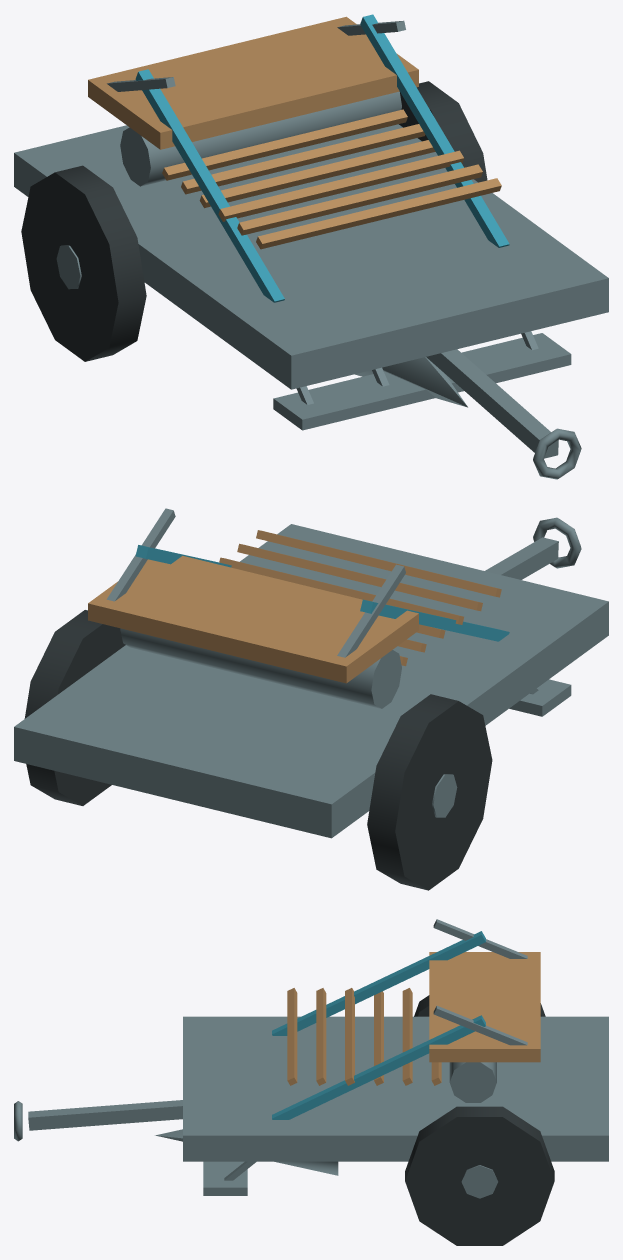
The model's file is potato-harvester.source.glb.
3 views of the same model, one above another, from view 1: azimuth 30°, elevation 25°; view 2: azimuth 150°, elevation 25°; view 3: azimuth 270°, elevation 25° (orthographic). The views are drawn at different scales.
Parts seen in each view (by area): view 1: potato-harvester-main-frame-mesh, potato-harvester-sorting-deck-mesh, potato-harvester-tire-mesh (×2), potato-harvester-share-knife-mesh, potato-harvester-web-drive-roller-mesh, potato-harvester-web-rail--0.76-mesh, potato-harvester-tractor-drawbar-mesh, potato-harvester-web-rail-0.76-mesh, potato-harvester-web-slat-1-mesh, potato-harvester-web-slat-0-mesh, potato-harvester-web-slat-2-mesh, potato-harvester-web-slat-5-mesh (+6 smaller); view 2: potato-harvester-main-frame-mesh, potato-harvester-tire-mesh (×2), potato-harvester-sorting-deck-mesh, potato-harvester-web-drive-roller-mesh, potato-harvester-web-slat-0-mesh, potato-harvester-web-slat-1-mesh, potato-harvester-web-slat-2-mesh, potato-harvester-tractor-drawbar-mesh, potato-harvester-web-rail--0.76-mesh, potato-harvester-sorter-rail--0.78-mesh, potato-harvester-share-knife-mesh, potato-harvester-sorter-rail-0.78-mesh (+3 smaller); view 3: potato-harvester-main-frame-mesh, potato-harvester-tire-mesh, potato-harvester-sorting-deck-mesh, potato-harvester-tractor-drawbar-mesh, potato-harvester-web-rail-0.76-mesh, potato-harvester-web-rail--0.76-mesh, potato-harvester-web-drive-roller-mesh, potato-harvester-share-knife-mesh, potato-harvester-web-slat-1-mesh, potato-harvester-web-slat-0-mesh, potato-harvester-web-slat-2-mesh, potato-harvester-sorter-rail-0.78-mesh (+5 smaller).
Part boxes in pixels (bbox=[...]): potato-harvester-main-frame-mesh: bbox=[14, 124, 608, 389]; potato-harvester-sorting-deck-mesh: bbox=[88, 16, 418, 149]; potato-harvester-tire-mesh (×2): bbox=[21, 81, 487, 361]; potato-harvester-share-knife-mesh: bbox=[273, 333, 571, 430]; potato-harvester-web-drive-roller-mesh: bbox=[120, 91, 401, 186]; potato-harvester-web-rail--0.76-mesh: bbox=[135, 69, 284, 302]; potato-harvester-tractor-drawbar-mesh: bbox=[426, 349, 558, 458]; potato-harvester-web-rail-0.76-mesh: bbox=[360, 14, 509, 247]; potato-harvester-web-slat-1-mesh: bbox=[237, 164, 482, 235]; potato-harvester-web-slat-0-mesh: bbox=[256, 178, 501, 249]; potato-harvester-web-slat-2-mesh: bbox=[218, 150, 464, 221]; potato-harvester-web-slat-5-mesh: bbox=[162, 109, 407, 180]; potato-harvester-main-frame-mesh: bbox=[14, 524, 608, 838]; potato-harvester-tire-mesh (×2): bbox=[24, 610, 492, 890]; potato-harvester-sorting-deck-mesh: bbox=[88, 556, 418, 683]; potato-harvester-web-drive-roller-mesh: bbox=[120, 628, 401, 708]; potato-harvester-web-slat-0-mesh: bbox=[256, 530, 501, 597]; potato-harvester-web-slat-1-mesh: bbox=[237, 543, 482, 611]; potato-harvester-web-slat-2-mesh: bbox=[219, 557, 463, 624]; potato-harvester-tractor-drawbar-mesh: bbox=[485, 537, 558, 579]; potato-harvester-web-rail--0.76-mesh: bbox=[360, 599, 509, 641]; potato-harvester-sorter-rail--0.78-mesh: bbox=[337, 564, 405, 657]; potato-harvester-share-knife-mesh: bbox=[509, 679, 571, 716]; potato-harvester-sorter-rail-0.78-mesh: bbox=[106, 508, 175, 601]; potato-harvester-main-frame-mesh: bbox=[183, 1016, 608, 1161]; potato-harvester-tire-mesh: bbox=[405, 1106, 554, 1245]; potato-harvester-sorting-deck-mesh: bbox=[429, 952, 540, 1062]; potato-harvester-tractor-drawbar-mesh: bbox=[28, 1100, 182, 1130]; potato-harvester-web-rail-0.76-mesh: bbox=[272, 1015, 485, 1119]; potato-harvester-web-rail--0.76-mesh: bbox=[272, 931, 485, 1035]; potato-harvester-web-drive-roller-mesh: bbox=[449, 1062, 496, 1102]; potato-harvester-share-knife-mesh: bbox=[203, 1161, 247, 1195]; potato-harvester-web-slat-1-mesh: bbox=[316, 988, 326, 1085]; potato-harvester-web-slat-0-mesh: bbox=[287, 988, 297, 1085]; potato-harvester-web-slat-2-mesh: bbox=[345, 988, 354, 1085]; potato-harvester-sorter-rail-0.78-mesh: bbox=[433, 1005, 527, 1045].
Bounding box in the file's own units: 2.55 × 1.79 × 4.54.
